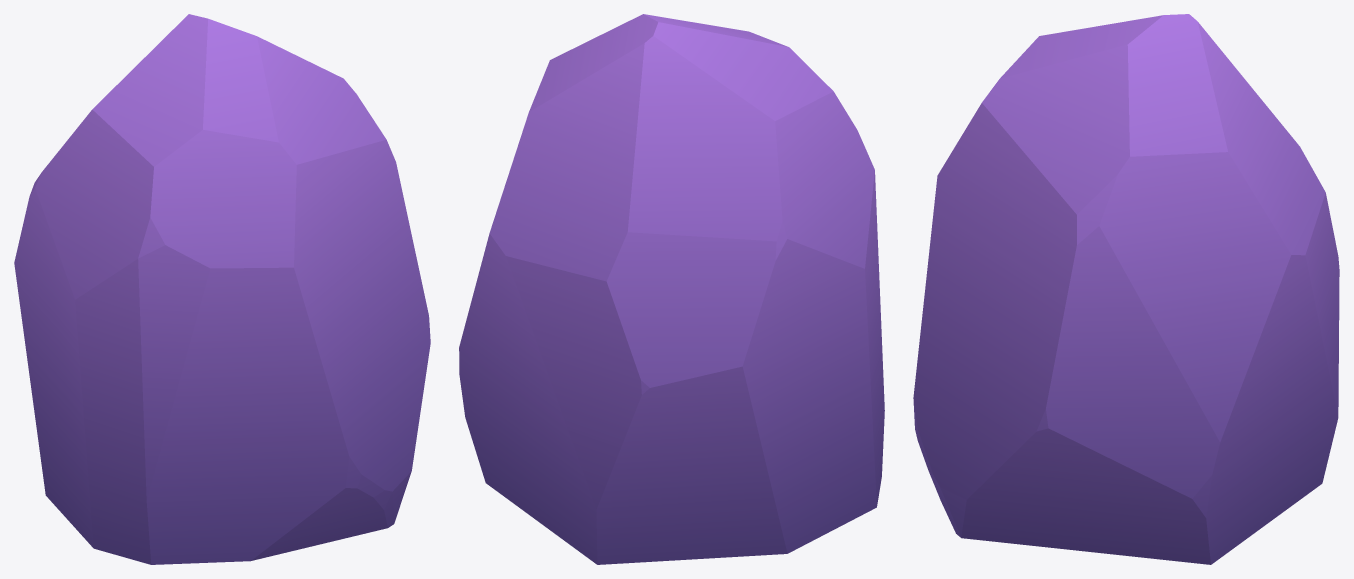
File: Crystal_P_7.glb
3 views of the same model, side by side, from view 1: azimuth 30°, elevation 25°; view 2: azimuth 150°, elevation 25°; view 3: azimuth 270°, elevation 25° (orthographic). The views are drawn at different scales.
Parts seen in each view (by area): view 1: crystal_7; view 2: crystal_7; view 3: crystal_7.
Boxes of the visible parts, x1,y1,x2,y2 form: crystal_7: (14, 14, 430, 564); crystal_7: (459, 14, 884, 564); crystal_7: (913, 14, 1339, 564).
Size of the model in its own units: 0.7659 by 1 by 0.8086.
Materials: 1 (1 with a texture image).
